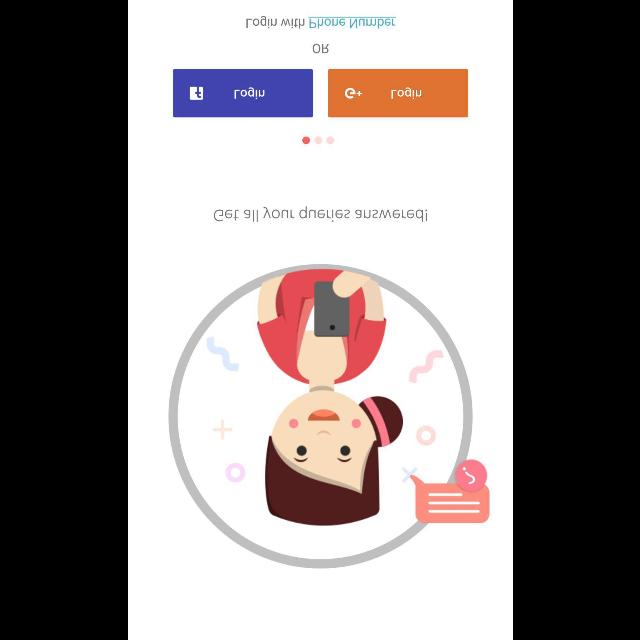image: (167, 263, 489, 569)
pageindicator: (302, 136, 334, 144)
text: (212, 205, 426, 222), (245, 16, 395, 28), (312, 44, 328, 54)
textbutton: (327, 69, 467, 117), (172, 69, 312, 117)
